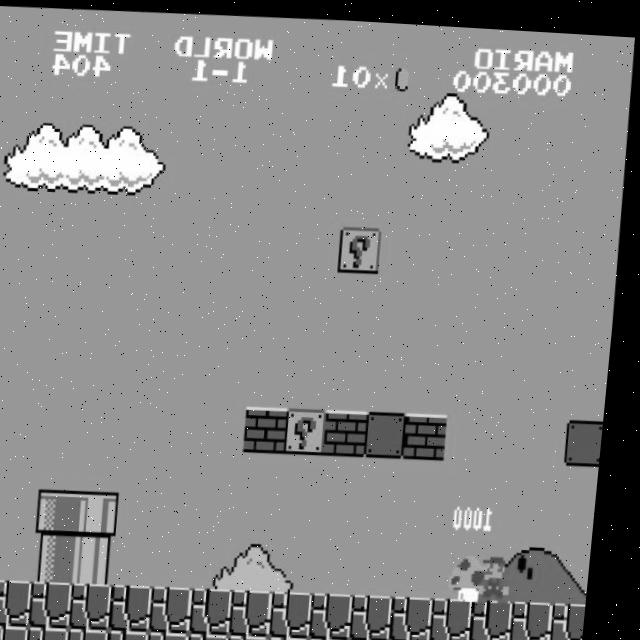1- brick_block: (410, 406, 456, 455), (330, 404, 376, 453), (250, 402, 296, 451)
13- mystery_block: (290, 403, 336, 452), (341, 221, 387, 269)
14- pipe: (82, 534, 127, 583), (42, 533, 87, 582)
15- pipe_head: (84, 488, 130, 537), (44, 487, 90, 536)
17- undestructible_block: (119, 581, 165, 630), (79, 580, 125, 629), (39, 579, 85, 628), (480, 592, 526, 640), (440, 591, 485, 640), (400, 589, 445, 638), (360, 588, 405, 637), (320, 587, 365, 636), (280, 586, 325, 635), (240, 585, 285, 634), (200, 583, 245, 632), (160, 582, 205, 631), (0, 578, 45, 627), (520, 593, 566, 640), (561, 593, 597, 640), (0, 623, 41, 640), (39, 624, 81, 640), (79, 625, 121, 640), (119, 627, 161, 640), (159, 628, 201, 640), (199, 629, 241, 640), (239, 630, 281, 640), (279, 631, 322, 640), (359, 633, 402, 640), (319, 633, 362, 640), (0, 576, 5, 625), (399, 635, 442, 640), (439, 636, 482, 640), (479, 637, 522, 640), (519, 638, 562, 640), (560, 639, 594, 640), (0, 621, 1, 640)
3- empty_block: (370, 405, 416, 454), (571, 410, 611, 459)
